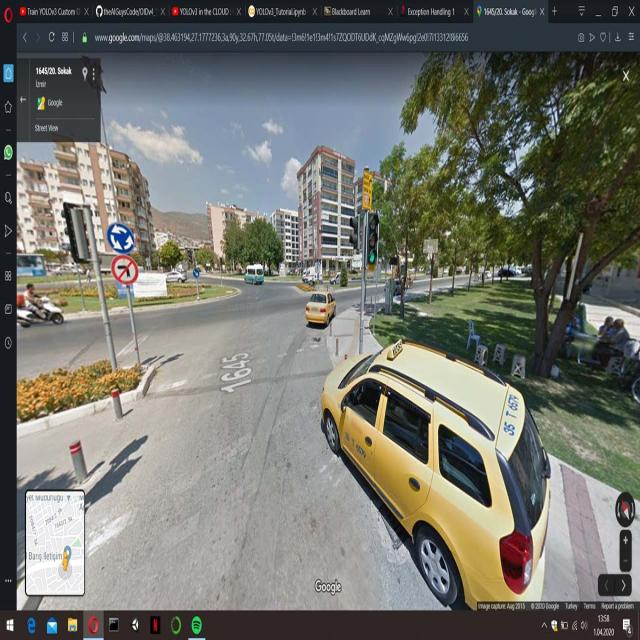soladonulmez: (110, 254, 138, 284)
yesil: (368, 214, 377, 267)
